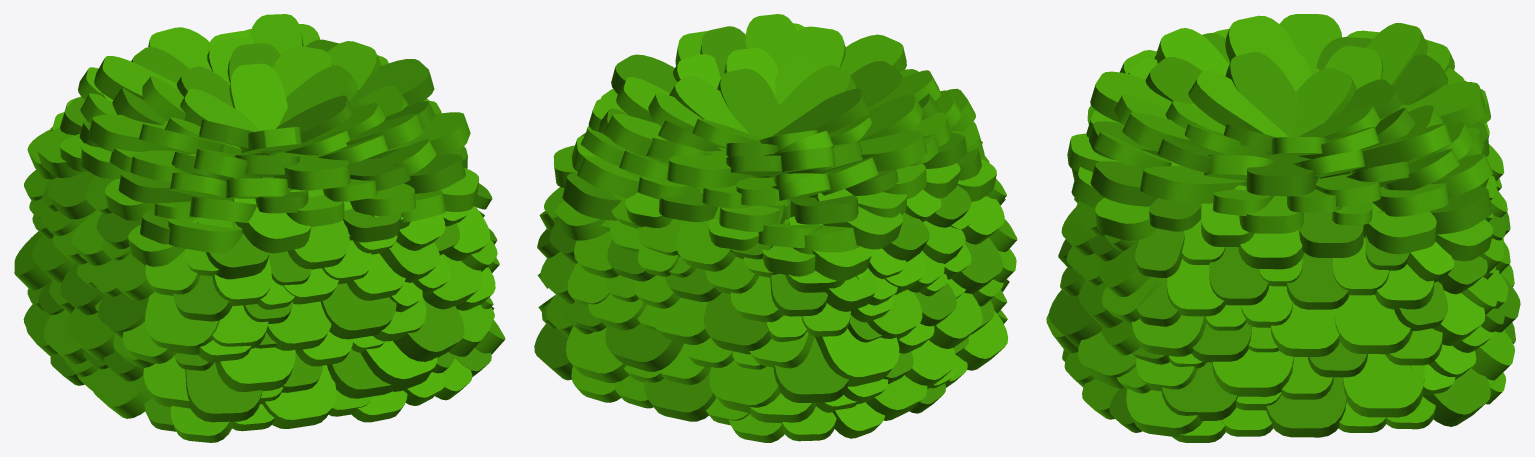
The model's file is bush.fbx.
3 views of the same model, side by side, from view 1: azimuth 30°, elevation 25°; view 2: azimuth 150°, elevation 25°; view 3: azimuth 270°, elevation 25° (orthographic). The views are drawn at different scales.
Visible parts, largest first — view 1: Cube; view 2: Cube; view 3: Cube.
Boxes of the visible parts, <box> form: Cube: <box>14,14,505,442</box>; Cube: <box>534,14,1017,442</box>; Cube: <box>1046,14,1520,442</box>.
Size of the model in its own units: 1039 by 729 by 1092.
